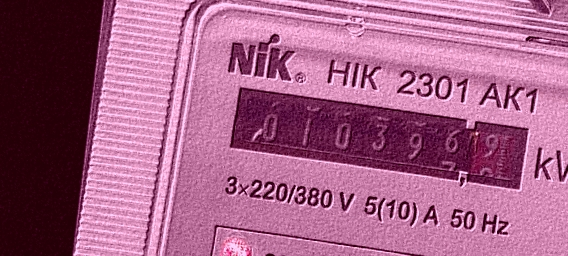0: (330, 118, 356, 153), (258, 109, 282, 144)
1: (298, 114, 315, 148)
3: (369, 120, 391, 155)
6: (440, 125, 465, 157)
9: (402, 129, 426, 164), (478, 131, 502, 163)
screen: (213, 73, 541, 205)
